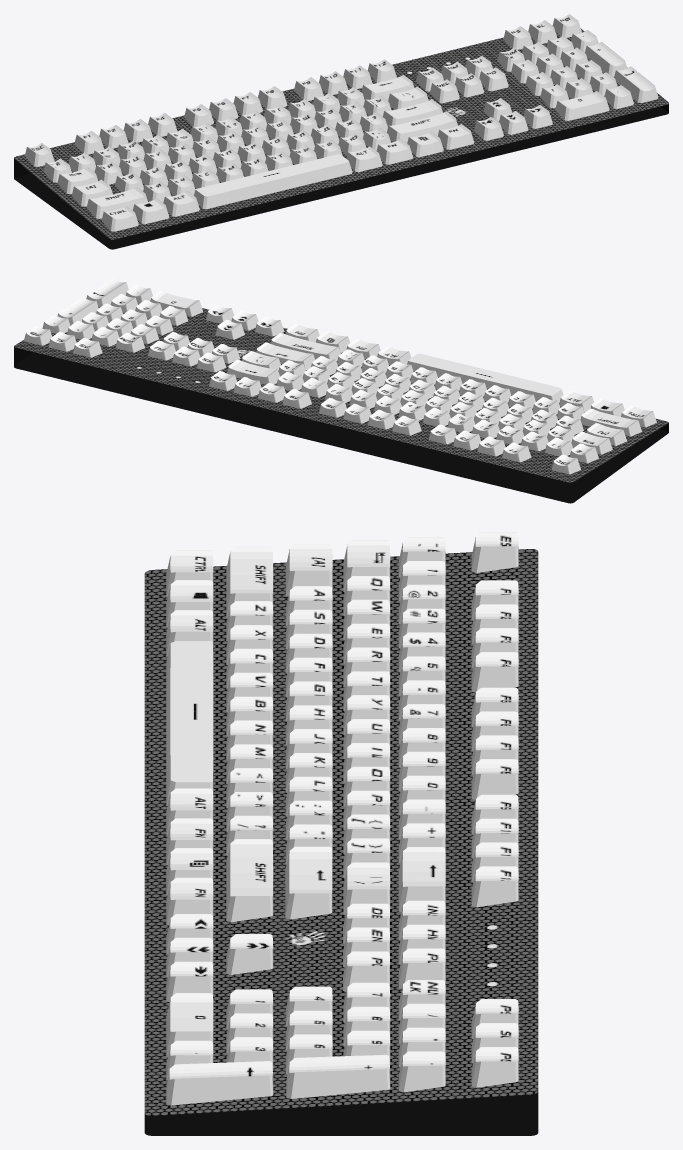
3 views of the same model, one above another, from view 1: azimuth 30°, elevation 25°; view 2: azimuth 150°, elevation 25°; view 3: azimuth 270°, elevation 25° (orthographic). The views are drawn at different scales.
Visible parts, largest first — view 1: Object_25, Object_23, Object_26, Object_0, Object_1, Object_2, Object_3, Object_8, Object_22, Object_17, Object_6, Object_16 (+15 smaller); view 2: Object_23, Object_25, Object_0, Object_26, Object_1, Object_2, Object_3, Object_8, Object_22, Object_17, Object_6, Object_5 (+15 smaller); view 3: Object_25, Object_26, Object_0, Object_1, Object_2, Object_23, Object_3, Object_8, Object_6, Object_22, Object_17, Object_5 (+15 smaller).
Part boxes in pixels (bbox=[...]): Object_25: bbox=[14, 29, 668, 239]; Object_23: bbox=[14, 104, 668, 249]; Object_26: bbox=[74, 59, 396, 154]; Object_0: bbox=[43, 87, 364, 182]; Object_1: bbox=[94, 95, 391, 184]; Object_2: bbox=[115, 112, 387, 192]; Object_3: bbox=[143, 127, 391, 202]; Object_8: bbox=[540, 66, 658, 120]; Object_22: bbox=[194, 154, 352, 209]; Object_17: bbox=[346, 124, 474, 172]; Object_6: bbox=[511, 42, 626, 83]; Object_16: bbox=[101, 191, 199, 231]; Object_23: bbox=[14, 347, 668, 503]; Object_25: bbox=[14, 303, 668, 482]; Object_0: bbox=[276, 372, 598, 463]; Object_26: bbox=[209, 371, 531, 462]; Object_1: bbox=[278, 360, 574, 442]; Object_2: bbox=[311, 356, 583, 434]; Object_3: bbox=[337, 349, 584, 419]; Object_8: bbox=[86, 278, 203, 325]; Object_22: bbox=[407, 353, 563, 402]; Object_17: bbox=[285, 324, 411, 365]; Object_6: bbox=[57, 297, 158, 343]; Object_5: bbox=[42, 315, 144, 352]; Object_25: bbox=[144, 549, 538, 1115]; Object_26: bbox=[471, 580, 518, 907]; Object_0: bbox=[398, 537, 445, 862]; Object_1: bbox=[343, 576, 390, 878]; Object_2: bbox=[285, 586, 332, 864]; Object_23: bbox=[144, 1092, 538, 1135]; Object_3: bbox=[226, 601, 273, 855]; Object_8: bbox=[166, 989, 273, 1105]; Object_6: bbox=[286, 982, 390, 1098]; Object_22: bbox=[166, 641, 213, 805]; Object_17: bbox=[166, 788, 213, 925]; Object_5: bbox=[398, 980, 445, 1092].
Bounding box in the file's own units: 0.4652 × 0.0265 × 0.1419.
4 materials, 2 textured.
